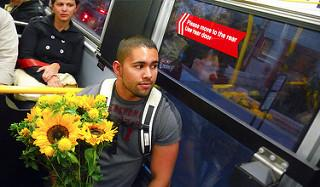sunflower: (33, 112, 78, 155), (79, 119, 118, 145)
